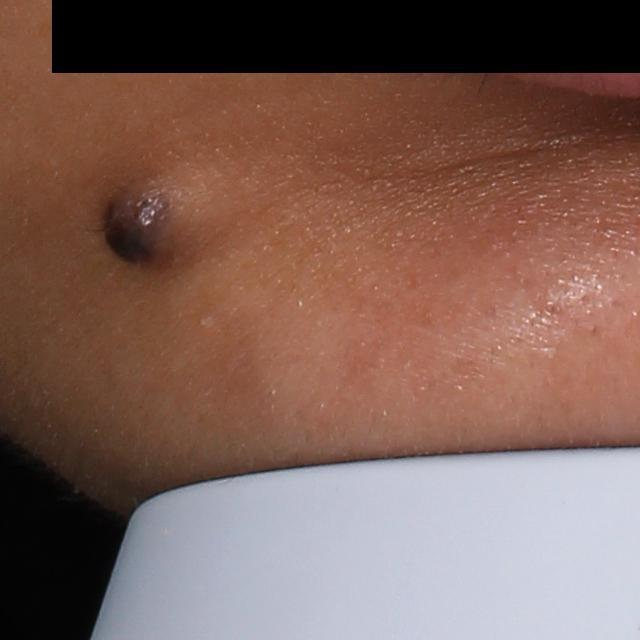nevus: (96, 166, 220, 273)
